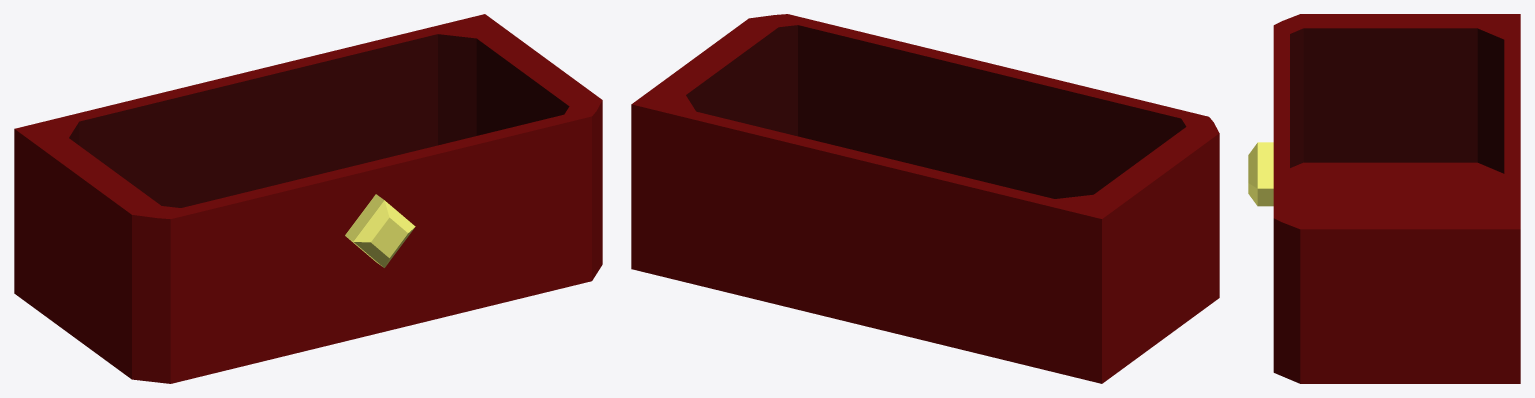
The model's file is xylophone_drawer_rec_modif.FBX.
The picture shows the model from 3 angles, left to right: view 1: azimuth 30°, elevation 25°; view 2: azimuth 150°, elevation 25°; view 3: azimuth 270°, elevation 25°; orthographic projection. The views are drawn at different scales.
Parts seen in each view (by area): view 1: xylophone_drawer_rec; view 2: xylophone_drawer_rec; view 3: xylophone_drawer_rec.
Part boxes in pixels (x1,y1,x2,y2): xylophone_drawer_rec: (14, 14, 602, 383); xylophone_drawer_rec: (631, 14, 1219, 383); xylophone_drawer_rec: (1248, 14, 1520, 383).
Size of what is drawn, in the model's own units: 2.06 by 1.1 by 0.6904.
